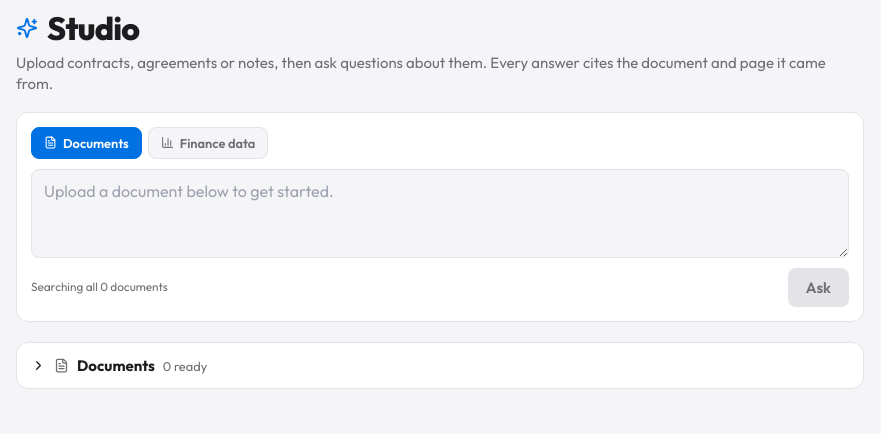
Scenario: Studio data mode › says so when the account may query nothing
The width and height of the screenshot is (881, 434).
Click the tab "Finance data". click: (208, 142)
box: [148,126,268,158]
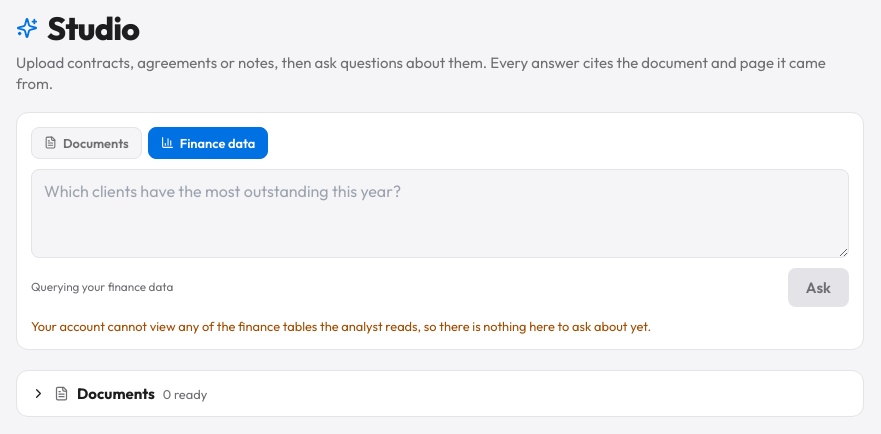
Now the text "cannot view any of the finance tables" is shown, box [31,318,651,334]
